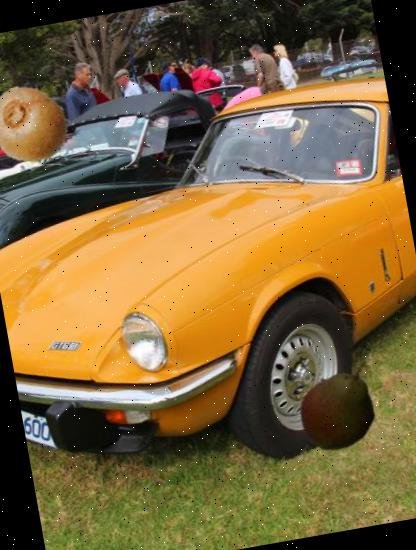Kiwi: (0, 77, 76, 171)
Pear: (283, 347, 396, 461)
